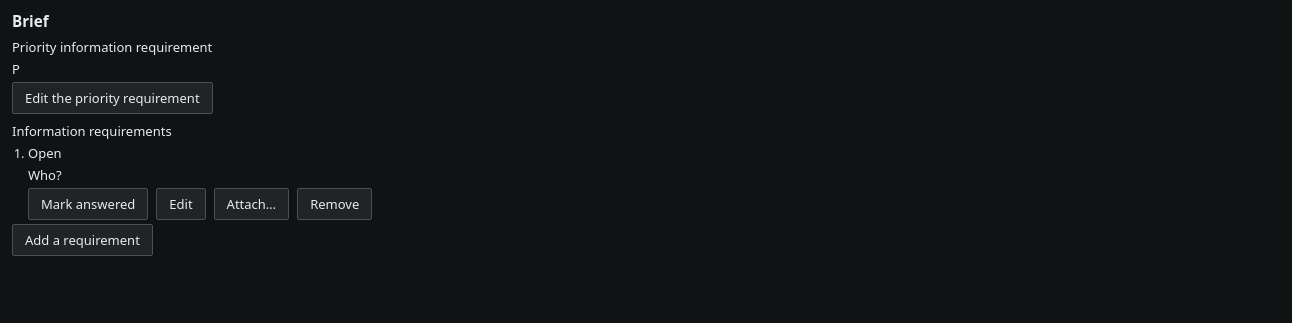
Test: CaseBrief › sends no status when a requirement is added or edited
Click the button with aria-label "Edit requirement 1": (181, 204) [156, 188, 206, 220]
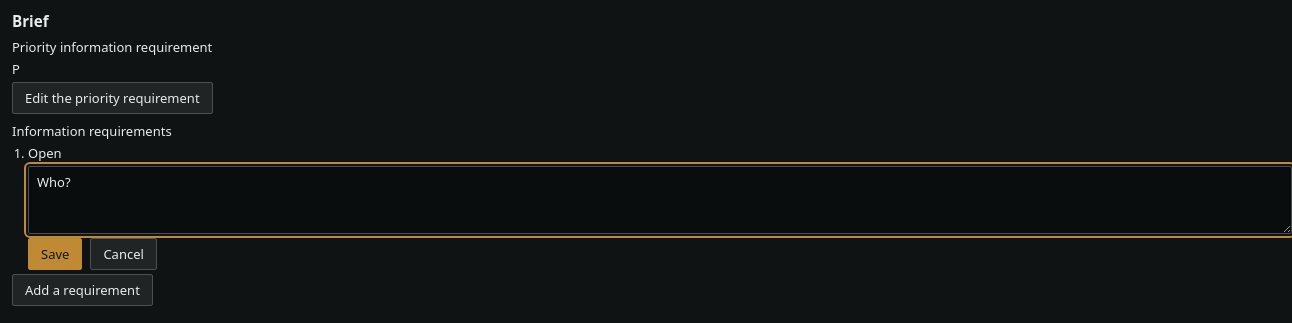
Replace the text in the text box named "Requirement 1" with "Who, then?": (660, 200) [28, 166, 1291, 234]
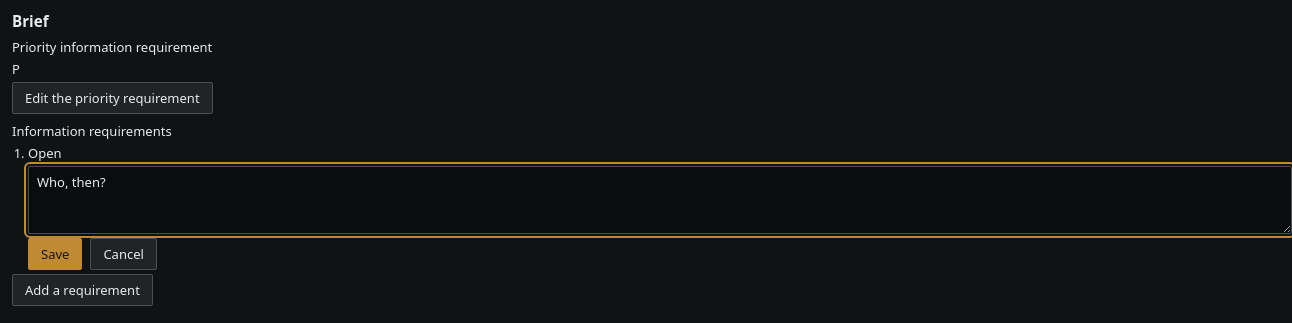
Click the button "Save": (55, 254) [28, 238, 82, 270]
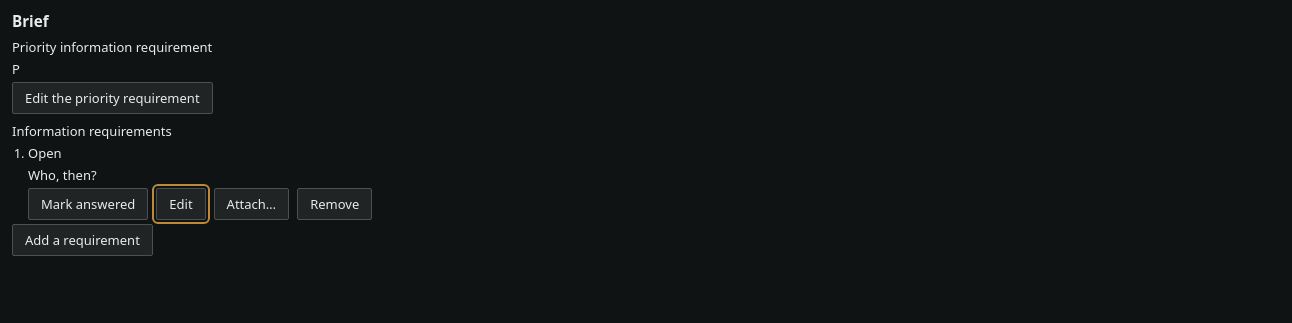
Expected: the text "Who, then?" is shown, [28, 166, 97, 184]
